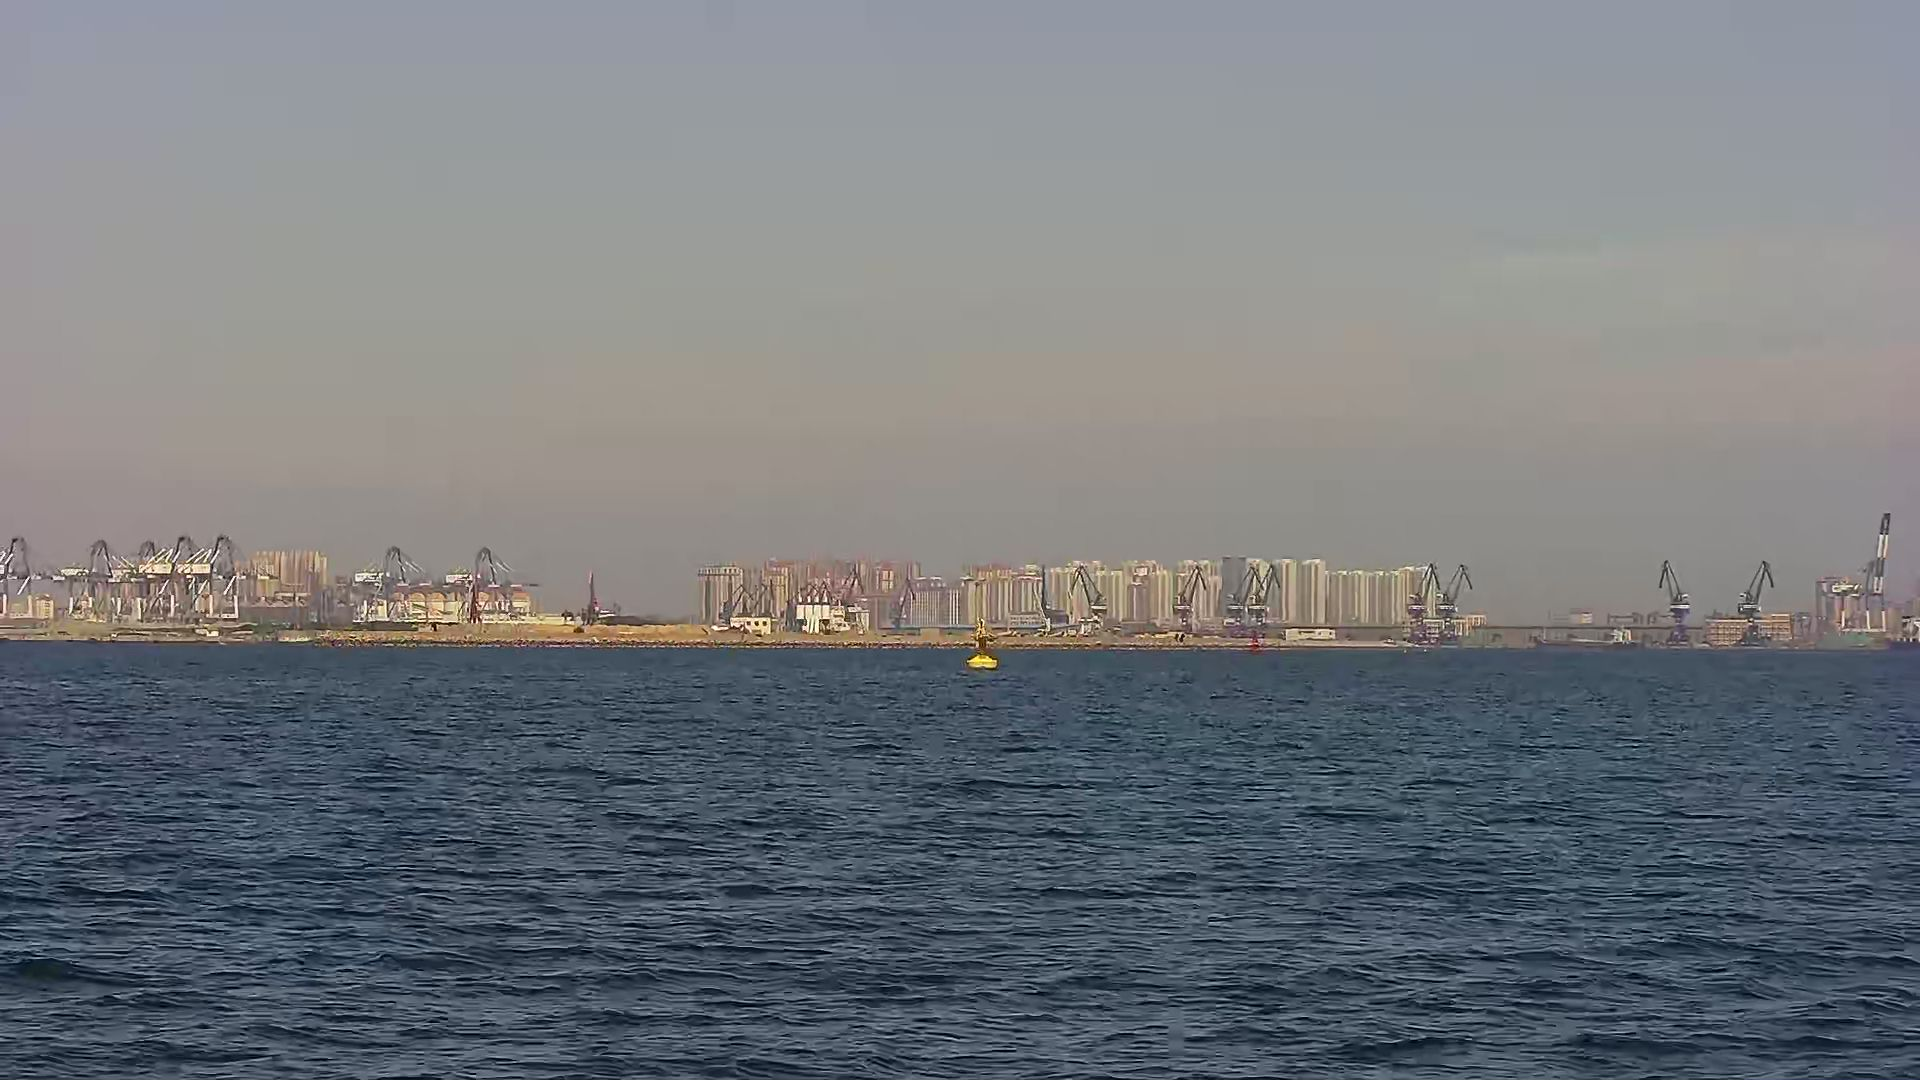buoy: (967, 632, 998, 667)
ship: (1528, 626, 1652, 651)
